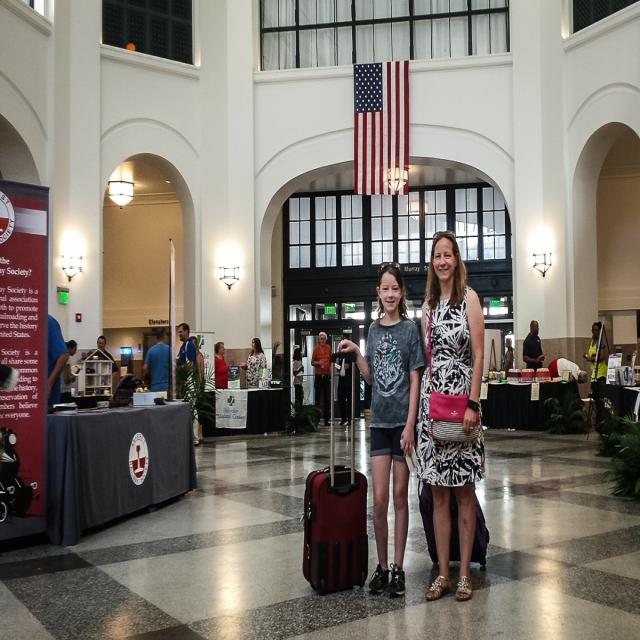body: (336, 260, 425, 598), (413, 230, 488, 602), (34, 310, 120, 426), (582, 320, 608, 434), (310, 331, 335, 428), (184, 335, 205, 445), (140, 326, 173, 392), (173, 321, 197, 400), (237, 336, 268, 389), (337, 332, 354, 427), (546, 356, 588, 385), (522, 319, 546, 369), (291, 347, 305, 408), (214, 341, 229, 390), (498, 337, 514, 379)
